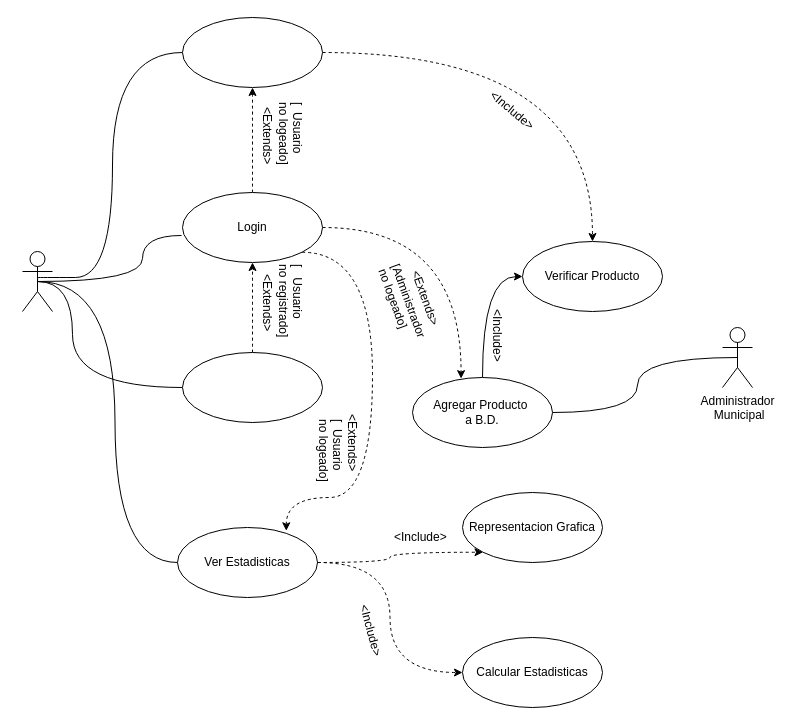
The diagram is 792 pixels wide and 725 high, and some of its shapes have lost their labels. Here are the shapes that lost their labels. From the top down, the centre of each, then its label:
At pixel 252 52: "Registrar Acopio".
At pixel 37 281: "Usuario".
At pixel 252 387: "Registrar Usuario".
